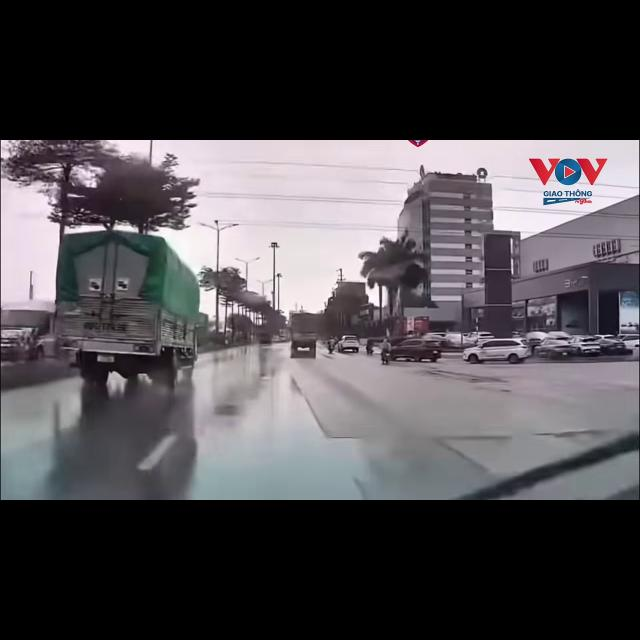car: (463, 338, 530, 363), (390, 339, 442, 361), (536, 337, 573, 358), (570, 336, 600, 355), (599, 337, 632, 354), (337, 335, 359, 352), (618, 334, 639, 348)
motorcycle: (381, 351, 389, 365), (366, 346, 373, 355), (328, 343, 334, 353), (328, 346, 333, 353)
truck: (55, 230, 200, 389), (289, 313, 320, 357)
